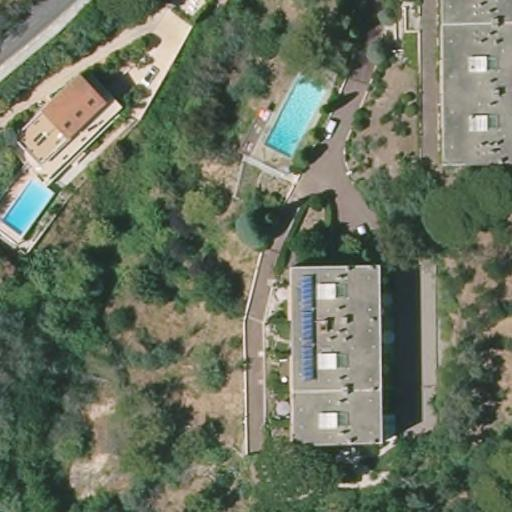pool: (266, 75, 330, 161), (4, 180, 57, 237)
